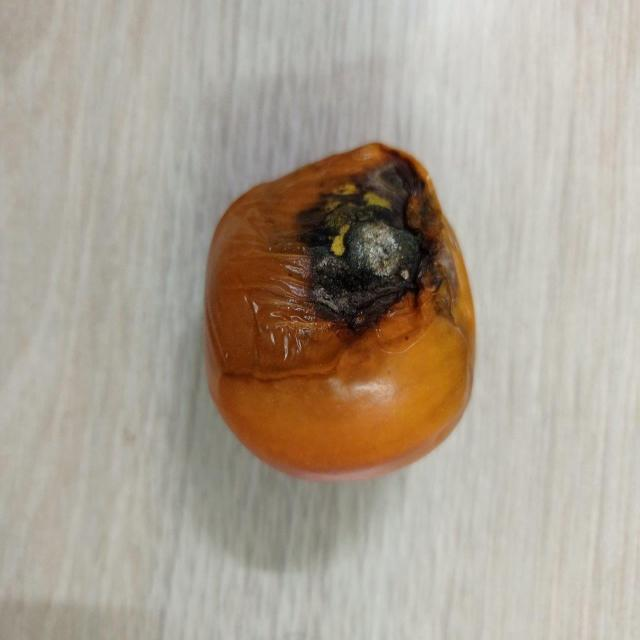Rotten: (202, 141, 476, 474)
